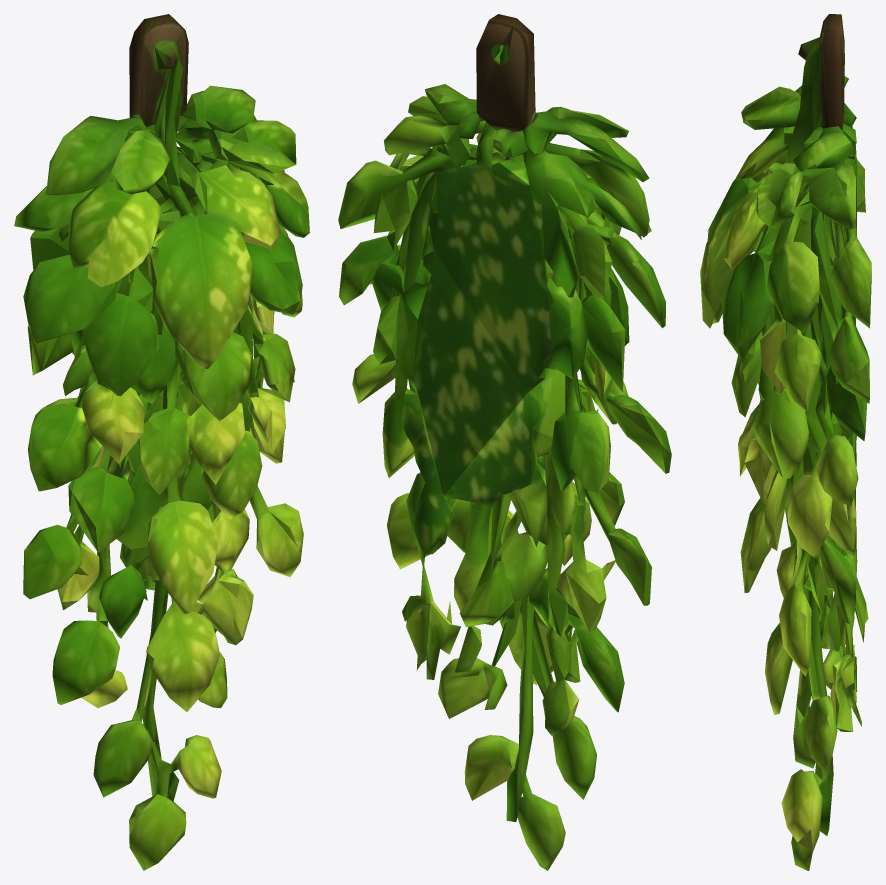
Rendered from hanging_plant.gltf.
The picture shows the model from 3 angles, left to right: view 1: azimuth 30°, elevation 25°; view 2: azimuth 150°, elevation 25°; view 3: azimuth 270°, elevation 25°; orthographic projection. The views are drawn at different scales.
Parts seen in each view (by area): view 1: hanging_plant; view 2: hanging_plant; view 3: hanging_plant.
Boxes of the visible parts, x1=… form: hanging_plant: x1=14, y1=14, x2=309, y2=870; hanging_plant: x1=338, y1=14, x2=671, y2=870; hanging_plant: x1=700, y1=14, x2=871, y2=870.
Bounding box in the file's own units: 0.6953 × 1.9 × 0.3409.
Materials: 1 (1 with a texture image).
